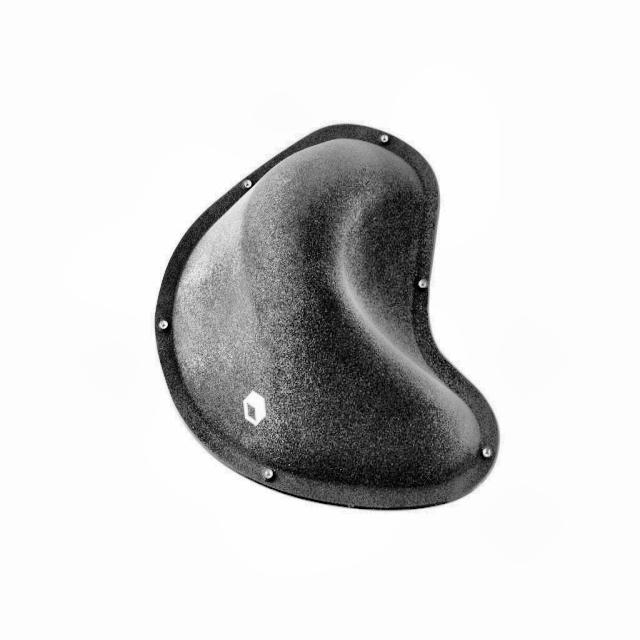Hold: (156, 114, 498, 522)
